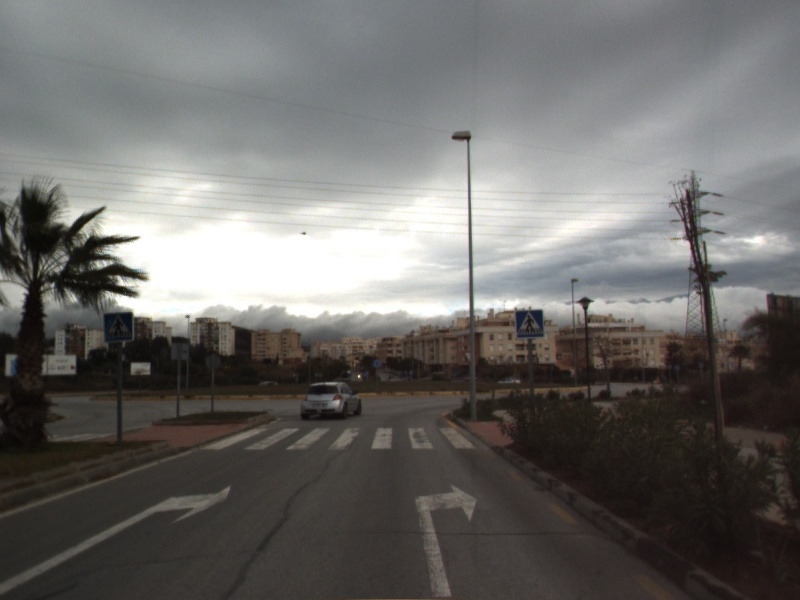RIGHT: (1, 482, 234, 596), (412, 481, 480, 599)
